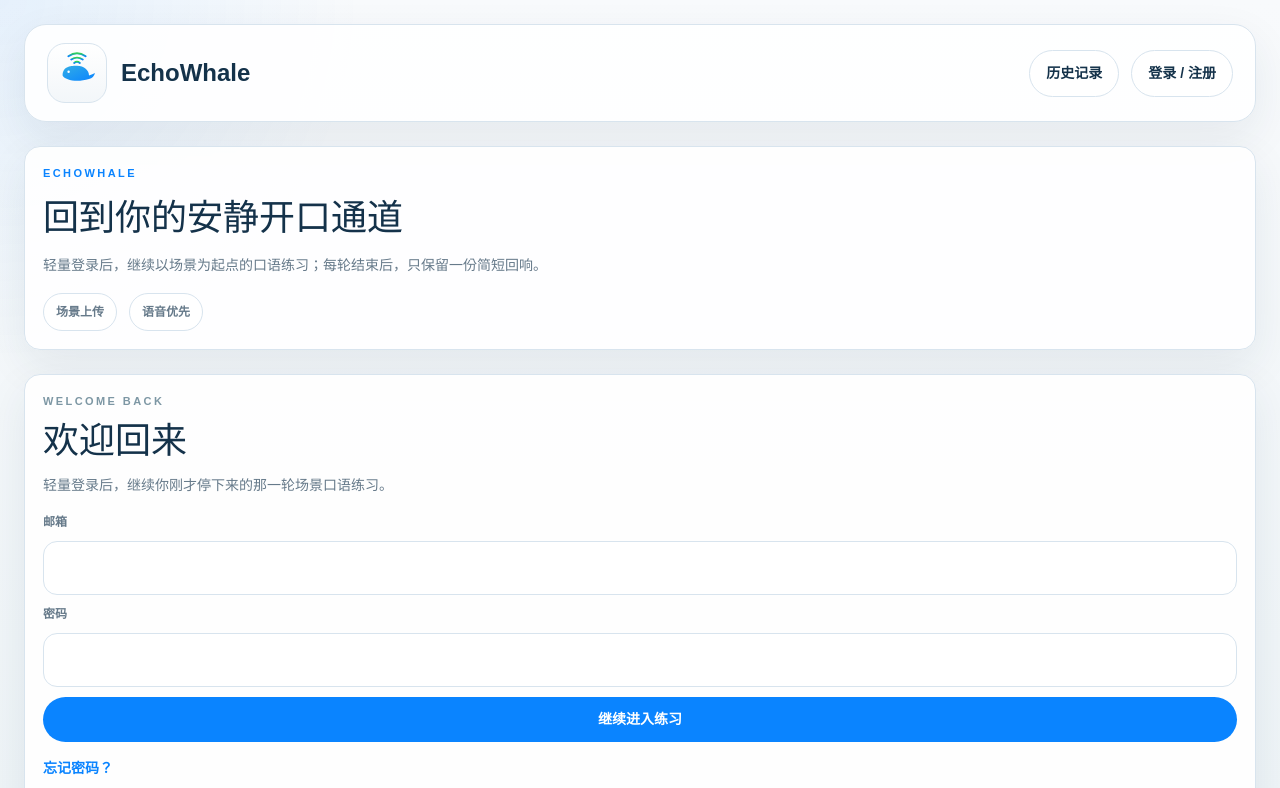
Test: App › shows a localized login validation error for password rules
The image size is (1280, 788).
Type "learner@example.com" into the field labelled "邮箱" at (640, 568), box x1=43 y1=541 x2=1237 y2=595
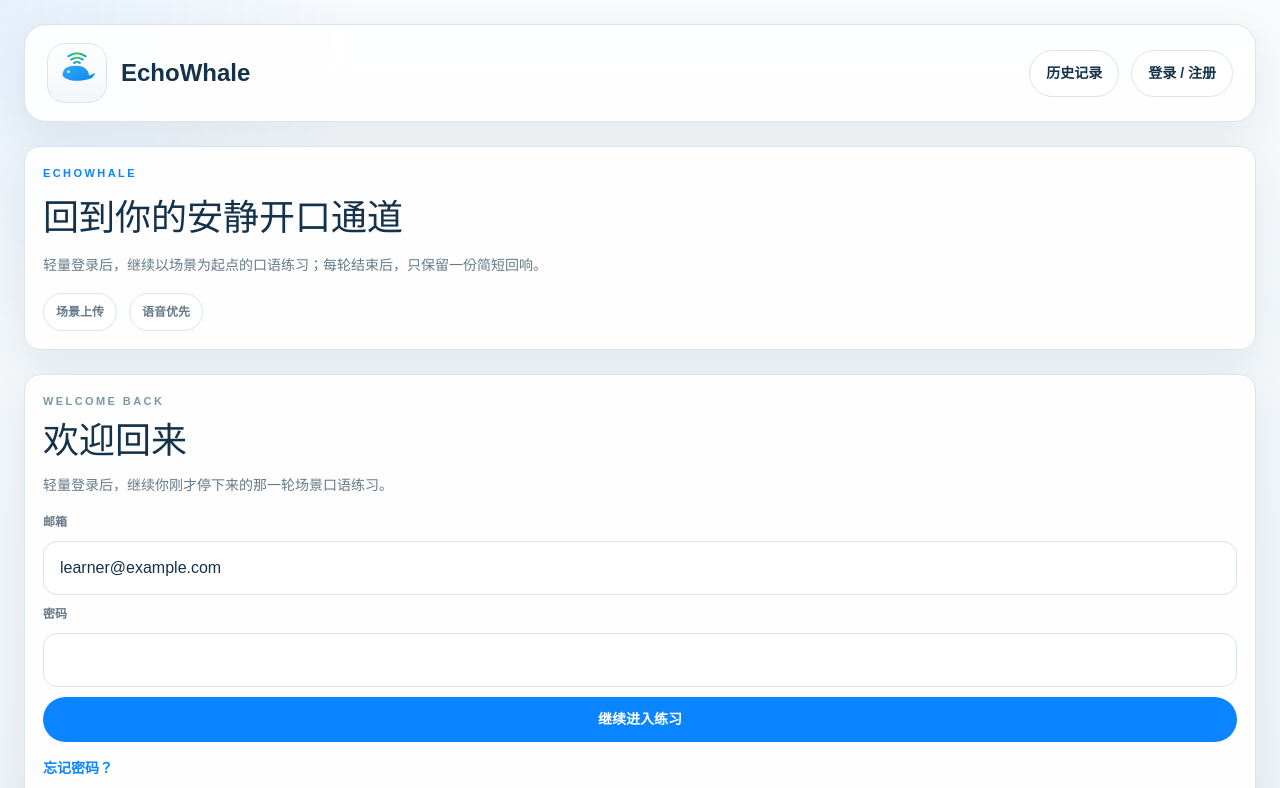
Type "password" into the password field labelled "密码" at (640, 660), box x1=43 y1=633 x2=1237 y2=687
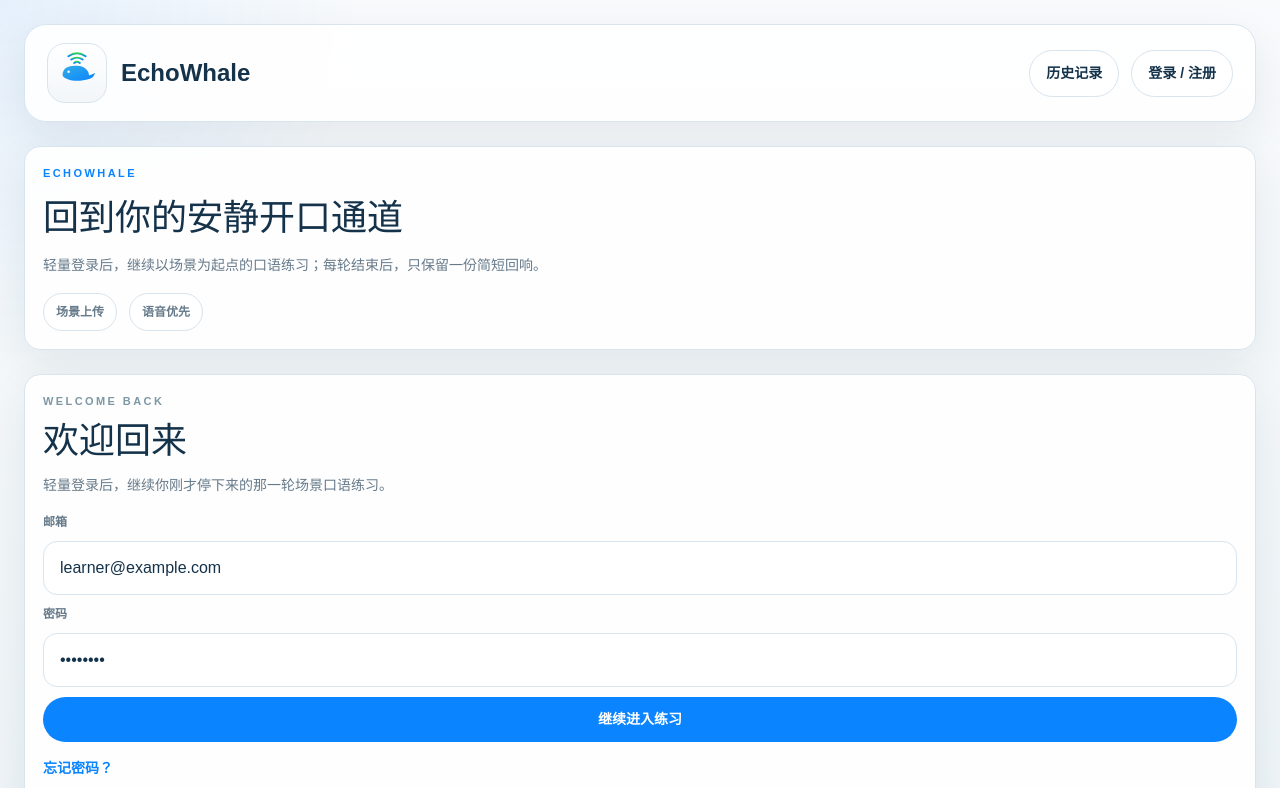
Click the button "继续进入练习" at (640, 719), box x1=43 y1=697 x2=1237 y2=742
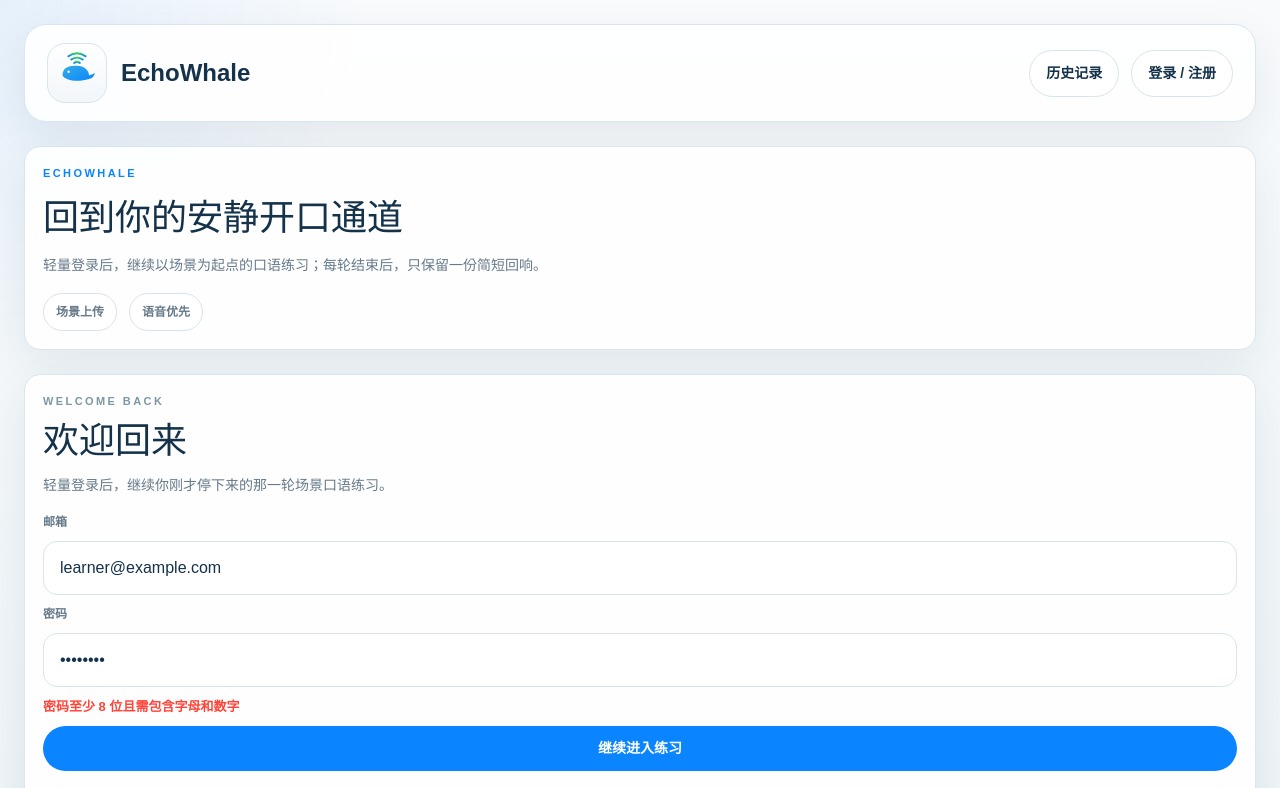
Result: the text "密码至少 8 位且需包含字母和数字" is shown at x1=43 y1=699 x2=240 y2=714
